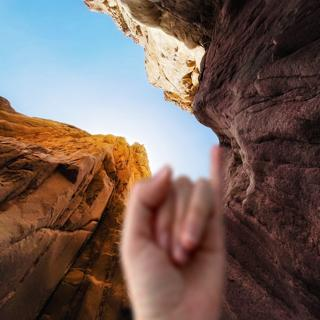Fine: (116, 137, 232, 314)
